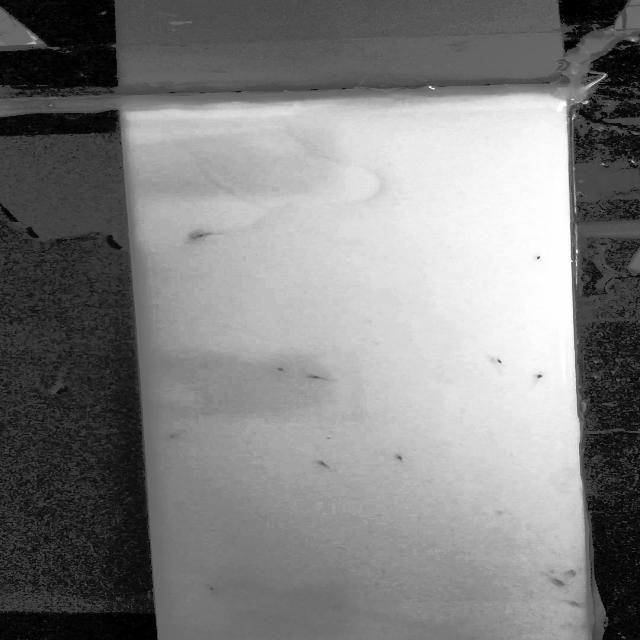shrimp: (193, 232, 228, 242), (306, 374, 338, 384), (198, 581, 220, 595), (545, 575, 569, 587), (530, 370, 544, 390), (162, 430, 188, 440), (272, 364, 296, 374), (491, 356, 510, 368), (526, 251, 544, 263), (391, 453, 410, 463), (563, 568, 578, 580), (320, 460, 336, 470), (566, 599, 582, 607)
